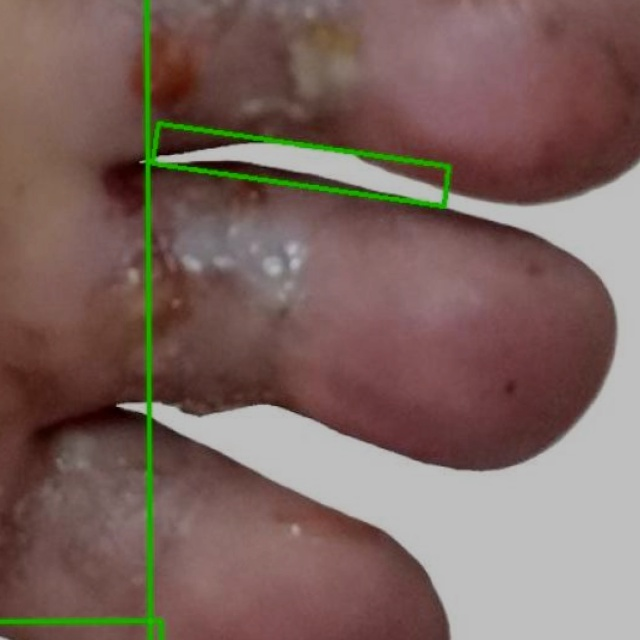Scabies: (146, 0, 639, 639), (152, 124, 450, 206)
